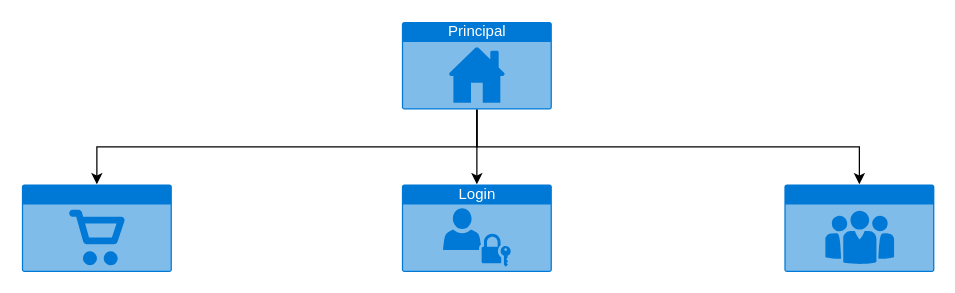
The diagram is 955 pixels wide and 293 high, and some of its shapes have lost their labels. Here are the shapes that lost their labels. From the top down, the box of each, then its label:
(21, 184, 171, 271): Produtos
(784, 184, 934, 271): Sobre
